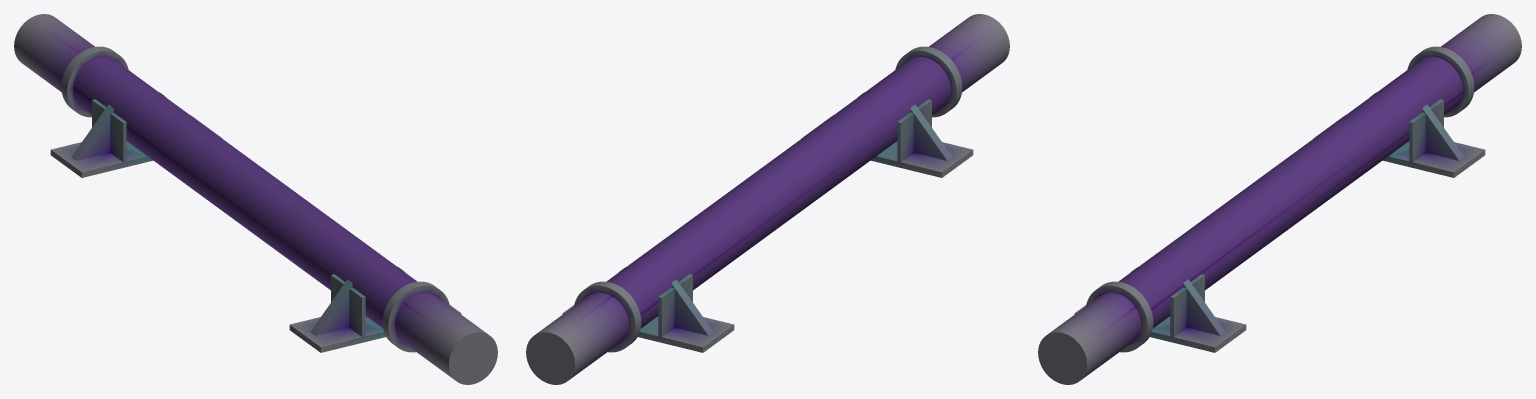
3 renders of one model, left to right at view 1: azimuth 30°, elevation 25°; view 2: azimuth 150°, elevation 25°; view 3: azimuth 330°, elevation 25°, orthographic.
Parts seen in each view (by area): view 1: body, foot.003, foot.002; view 2: body, foot.002, foot.003; view 3: body, foot.001, foot.
Boxes of the visible parts, box(x1,y1,x2,y2) form: body: box(14, 14, 497, 384); foot.003: box(50, 99, 151, 177); foot.002: box(289, 274, 385, 352); body: box(526, 14, 1009, 384); foot.002: box(872, 99, 973, 177); foot.003: box(638, 274, 734, 352); body: box(1038, 14, 1521, 384); foot.001: box(1384, 99, 1485, 177); foot: box(1150, 274, 1246, 352).
Size of the model in its own units: 0.466 by 0.222 by 2.5.
